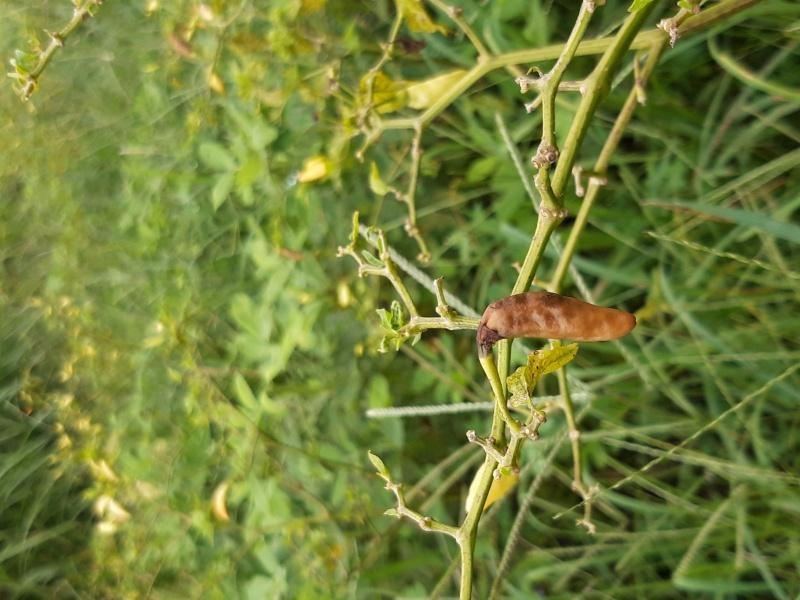lalat_buah: (480, 291, 636, 344)
